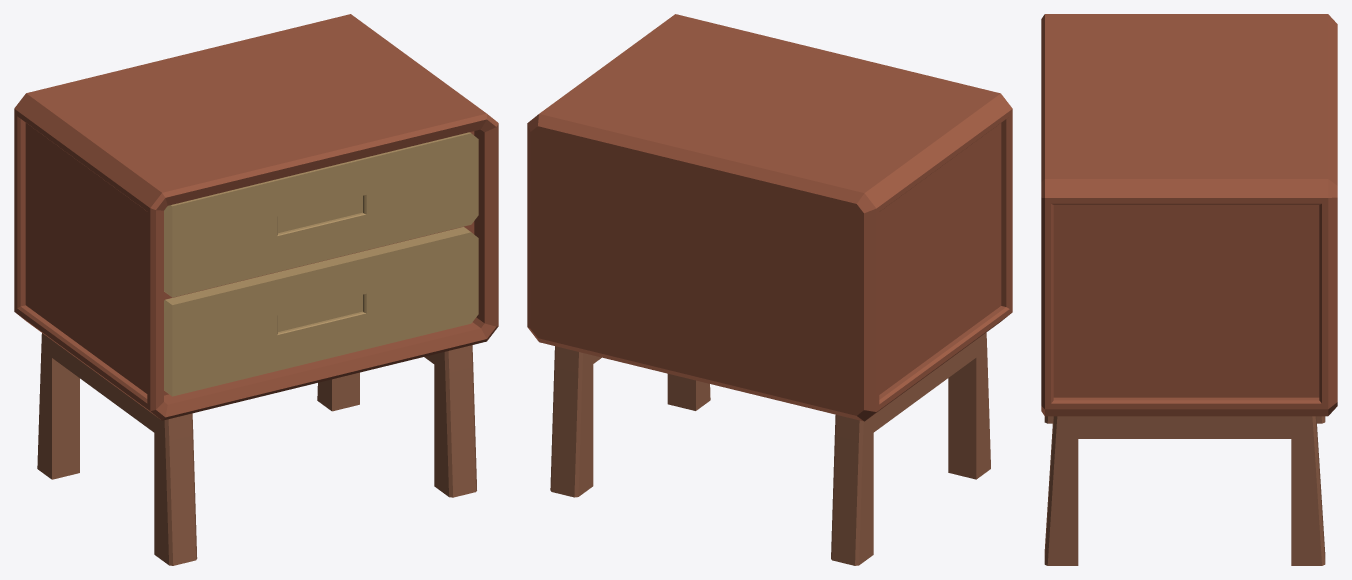
File: tymba_test.fbx
3 renders of one model, left to right at view 1: azimuth 30°, elevation 25°; view 2: azimuth 150°, elevation 25°; view 3: azimuth 270°, elevation 25°, orthographic. The views are drawn at different scales.
Parts seen in each view (by area): view 1: Cube.055, Cube.001, Cube.002; view 2: Cube.055, Cube.002; view 3: Cube.055, Cube.002.
Boxes of the visible parts, x1=… form: Cube.055: x1=14, y1=14, x2=498, y2=420; Cube.001: x1=164, y1=132, x2=478, y2=396; Cube.002: x1=37, y1=333, x2=476, y2=565; Cube.055: x1=527, y1=14, x2=1012, y2=421; Cube.002: x1=550, y1=332, x2=990, y2=565; Cube.055: x1=1041, y1=14, x2=1337, y2=416; Cube.002: x1=1044, y1=416, x2=1325, y2=565.
Bounding box in the file's own units: 65.94 × 67.93 × 46.63.
